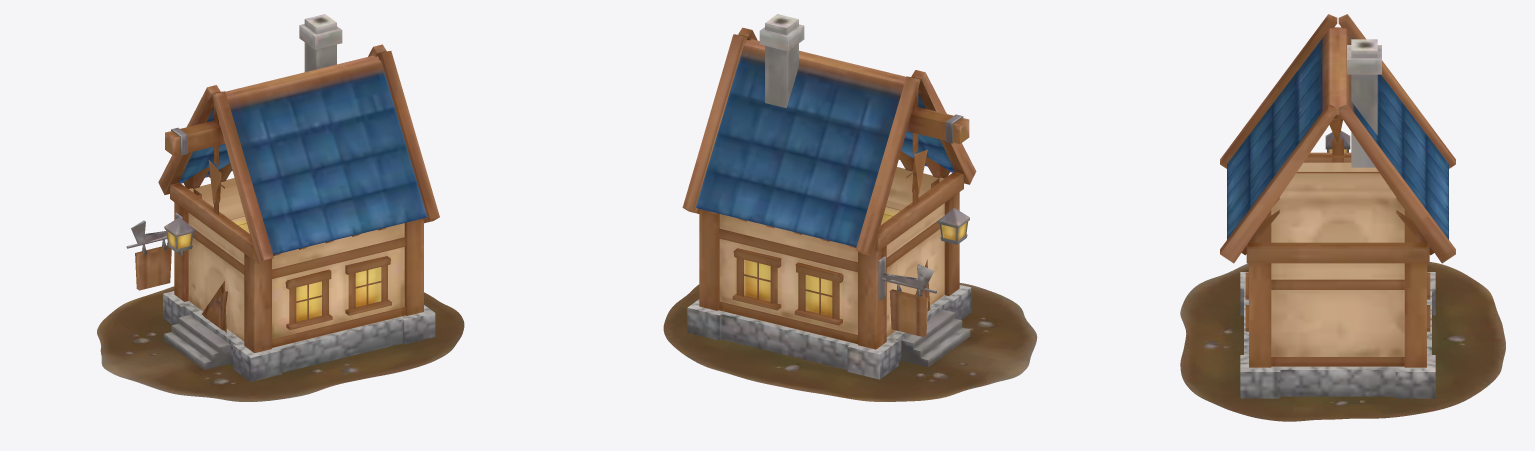
Rendered from low-poly-house.lod.glb.
The picture shows the model from 3 angles, left to right: view 1: azimuth 30°, elevation 25°; view 2: azimuth 150°, elevation 25°; view 3: azimuth 270°, elevation 25°; orthographic projection. The views are drawn at different scales.
Parts seen in each view (by area): view 1: Object_3, Object_2; view 2: Object_3, Object_2; view 3: Object_3, Object_2.
Boxes of the visible parts, <box> form: Object_3: <box>126,14,439,381</box>; Object_2: <box>97,286,464,401</box>; Object_3: <box>682,14,976,379</box>; Object_2: <box>663,283,1037,401</box>; Object_3: <box>1220,14,1455,398</box>; Object_2: <box>1180,262,1505,421</box>.
Size of the model in its own units: 137 by 104 by 107.
2 materials, 2 textured.
